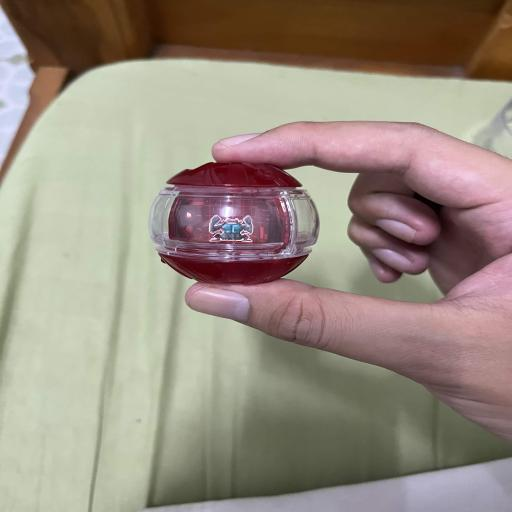capsem: (149, 162, 319, 284)
